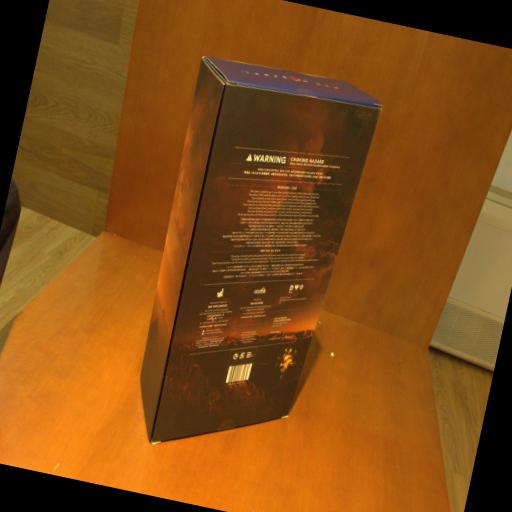superman: (121, 48, 384, 476)
